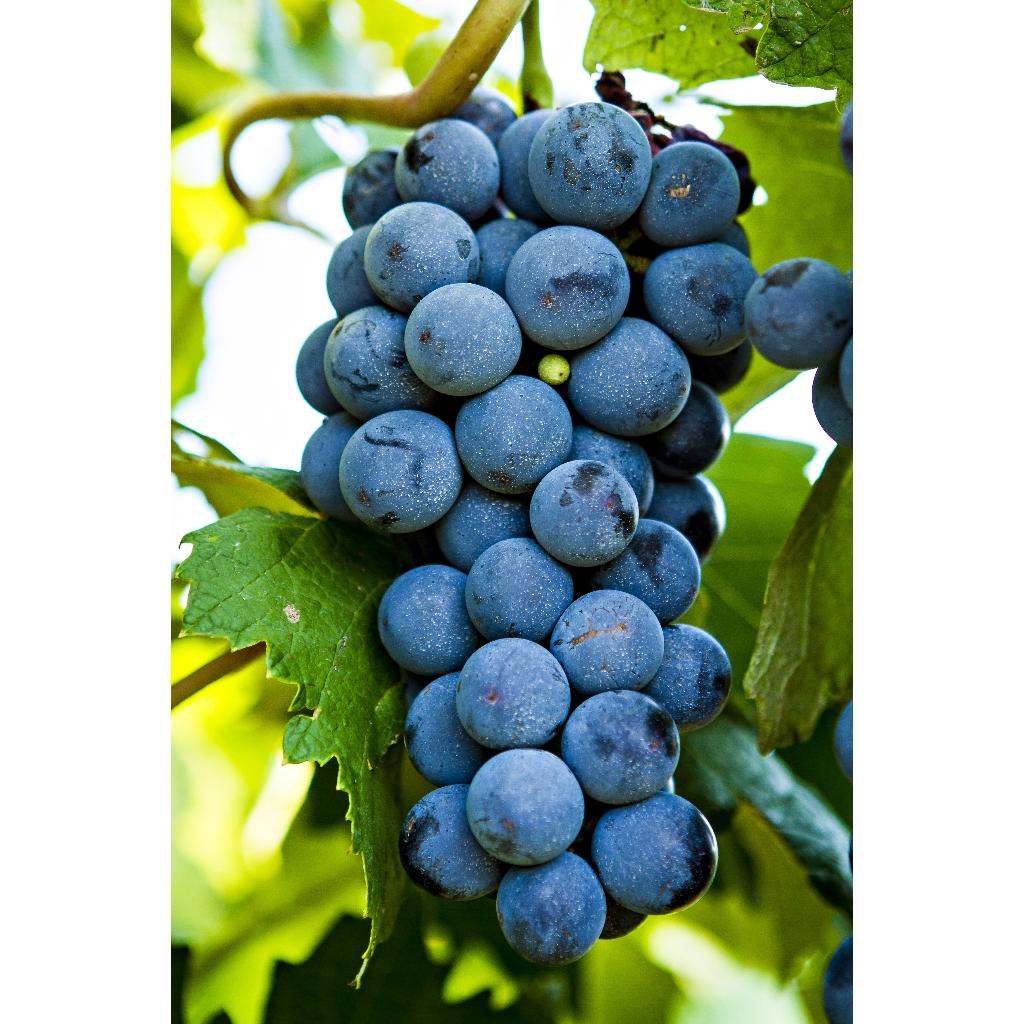grape: (298, 102, 853, 965)
